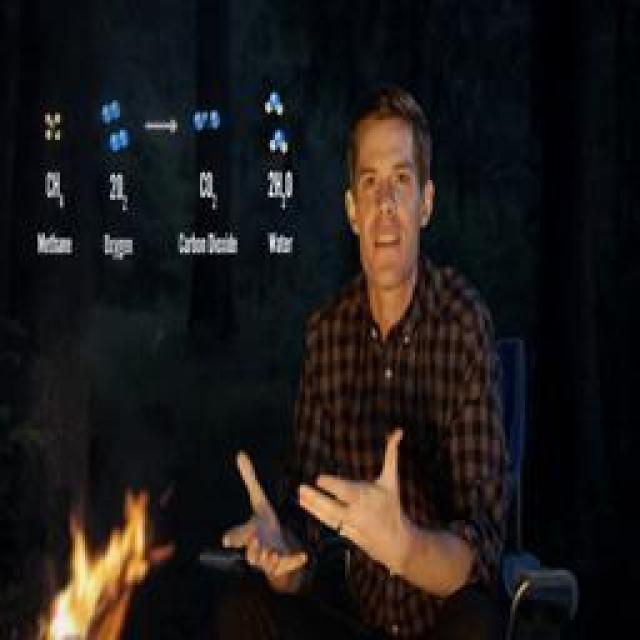Fire: (40, 487, 175, 640)
